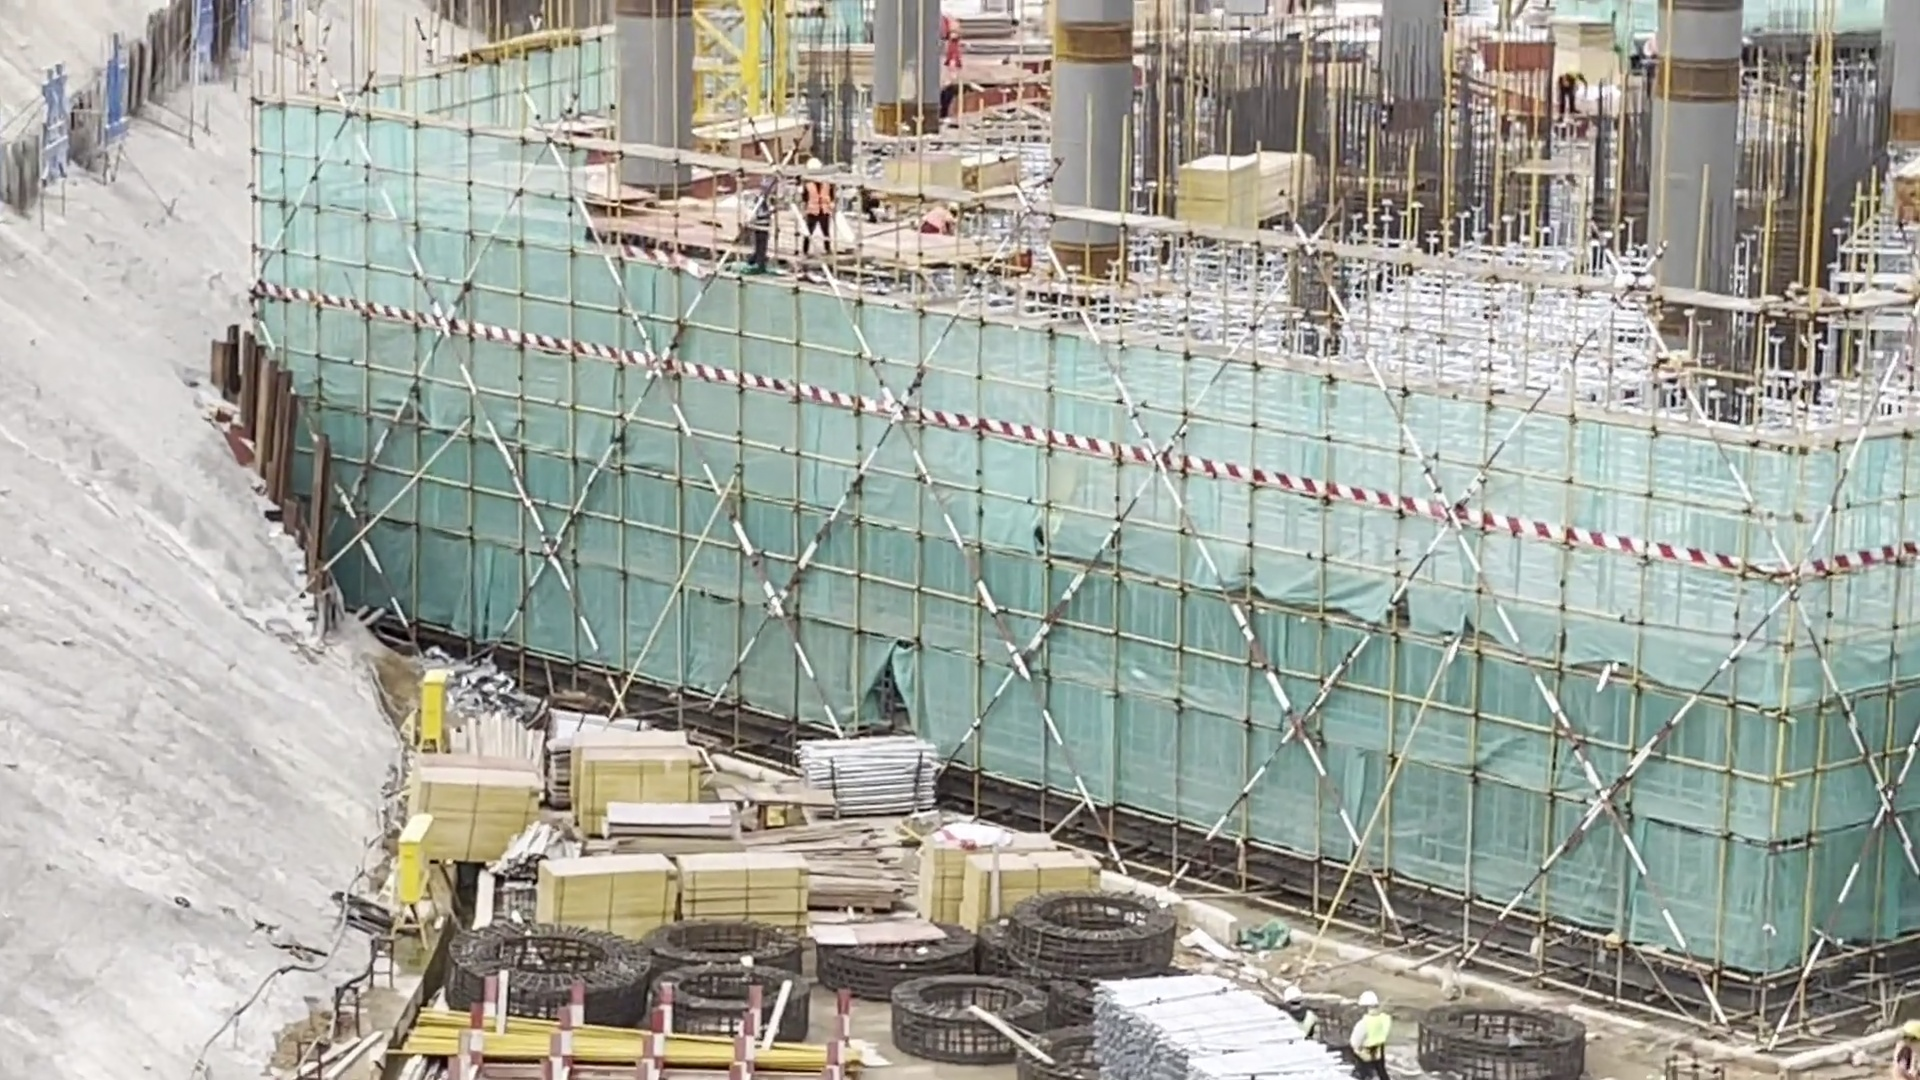helmet: (1284, 986, 1302, 1004), (1357, 991, 1376, 1005), (808, 159, 822, 170)
person: (800, 158, 839, 266), (1349, 990, 1390, 1070), (751, 180, 782, 277), (1282, 985, 1320, 1035), (918, 201, 964, 240), (849, 184, 889, 220), (1560, 65, 1585, 120), (941, 12, 964, 67)
vest: (807, 180, 831, 217), (1364, 1014, 1387, 1045), (924, 207, 950, 230), (1291, 1014, 1316, 1033)
